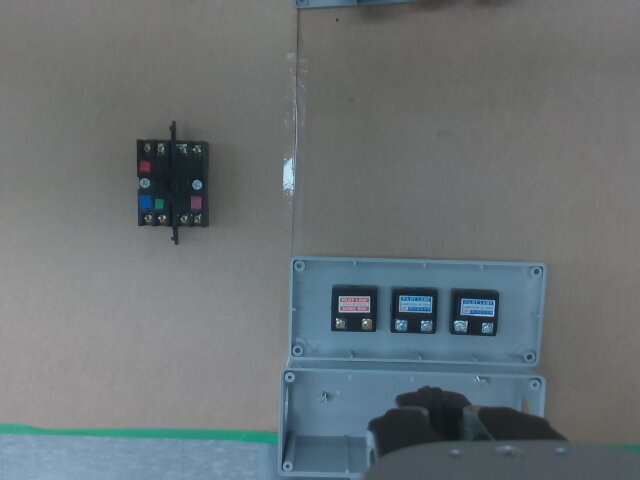L1(1): (335, 317, 346, 329)
L1(2): (361, 319, 372, 330)
L2(1): (395, 320, 407, 331)
L2(2): (421, 321, 432, 331)
L3(1): (455, 321, 467, 332)
L3(2): (482, 323, 493, 333)
